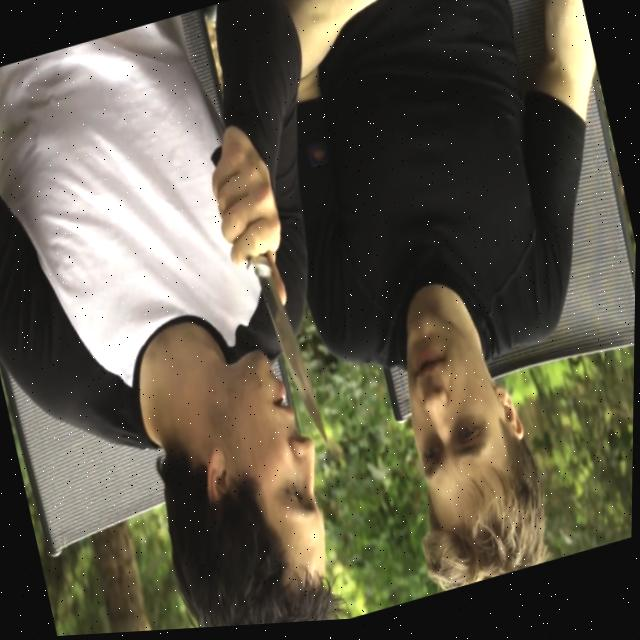knife: (229, 244, 331, 462)
